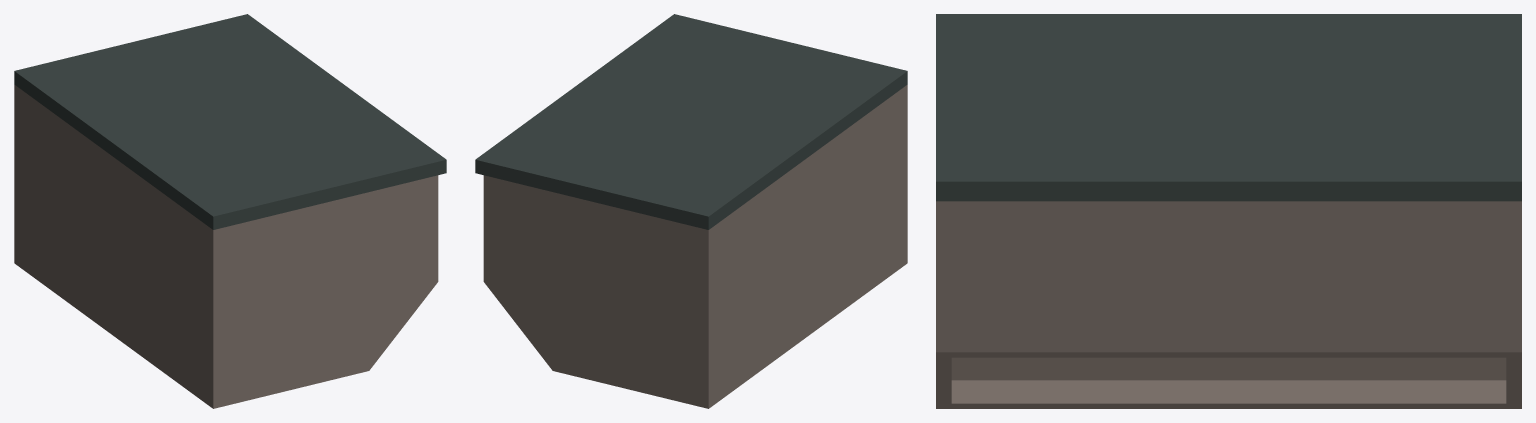
The model's file is SM_counter_03.fbx.
3 views of the same model, side by side, from view 1: azimuth 30°, elevation 25°; view 2: azimuth 150°, elevation 25°; view 3: azimuth 270°, elevation 25° (orthographic). The views are drawn at different scales.
Visible parts, largest first — view 1: counter_03; view 2: counter_03; view 3: counter_03.
Part boxes in pixels (x1,y1,x2,y2): counter_03: (14, 14, 446, 408); counter_03: (475, 14, 907, 408); counter_03: (936, 14, 1521, 408).
Size of the model in its own units: 156 by 123 by 230.
